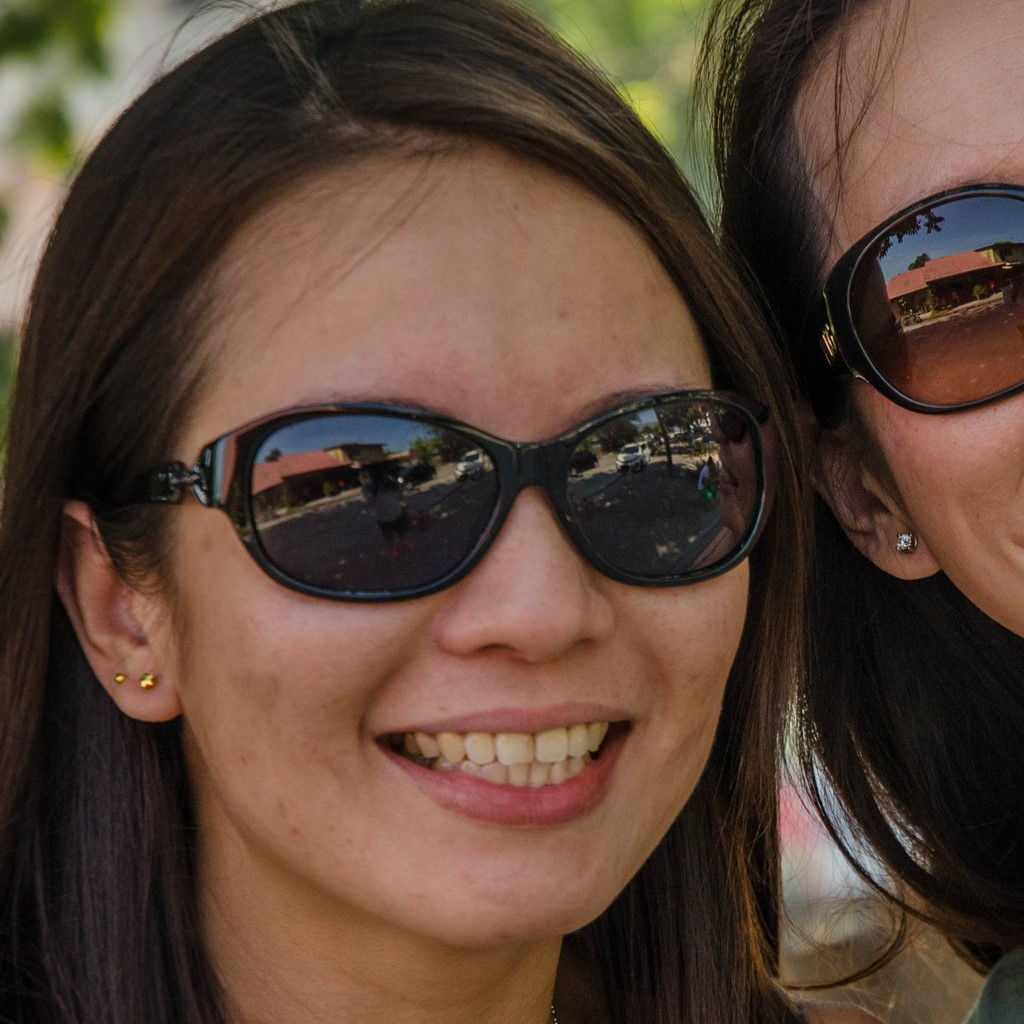sin_mascara: (84, 134, 757, 954)
